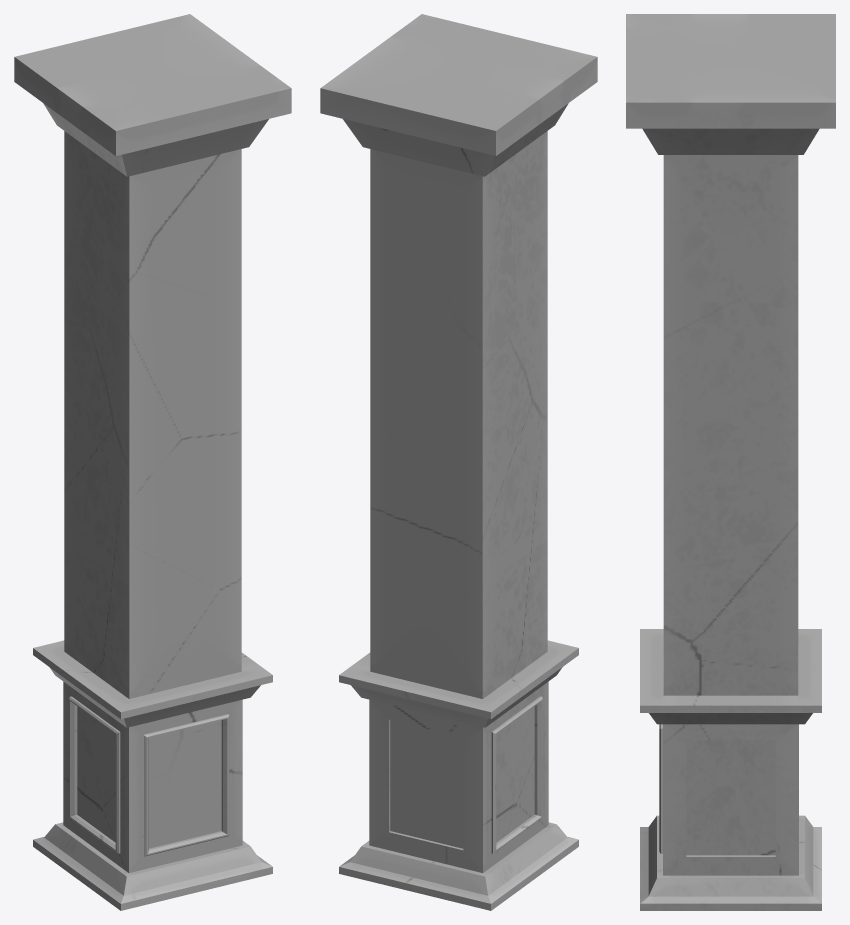
Rendered from Pillar_F2 (1).fbx.
3 views of the same model, side by side, from view 1: azimuth 30°, elevation 25°; view 2: azimuth 150°, elevation 25°; view 3: azimuth 270°, elevation 25° (orthographic). The views are drawn at different scales.
Parts seen in each view (by area): view 1: Pillar_F2 (1).001; view 2: Pillar_F2 (1).001; view 3: Pillar_F2 (1).001.
Part boxes in pixels (bbox=[...]): Pillar_F2 (1).001: bbox=[14, 14, 291, 910]; Pillar_F2 (1).001: bbox=[320, 14, 597, 910]; Pillar_F2 (1).001: bbox=[626, 14, 835, 910].
Size of the model in its own units: 1.09 by 1.09 by 4.69.
Materials: 1 (1 with a texture image).
